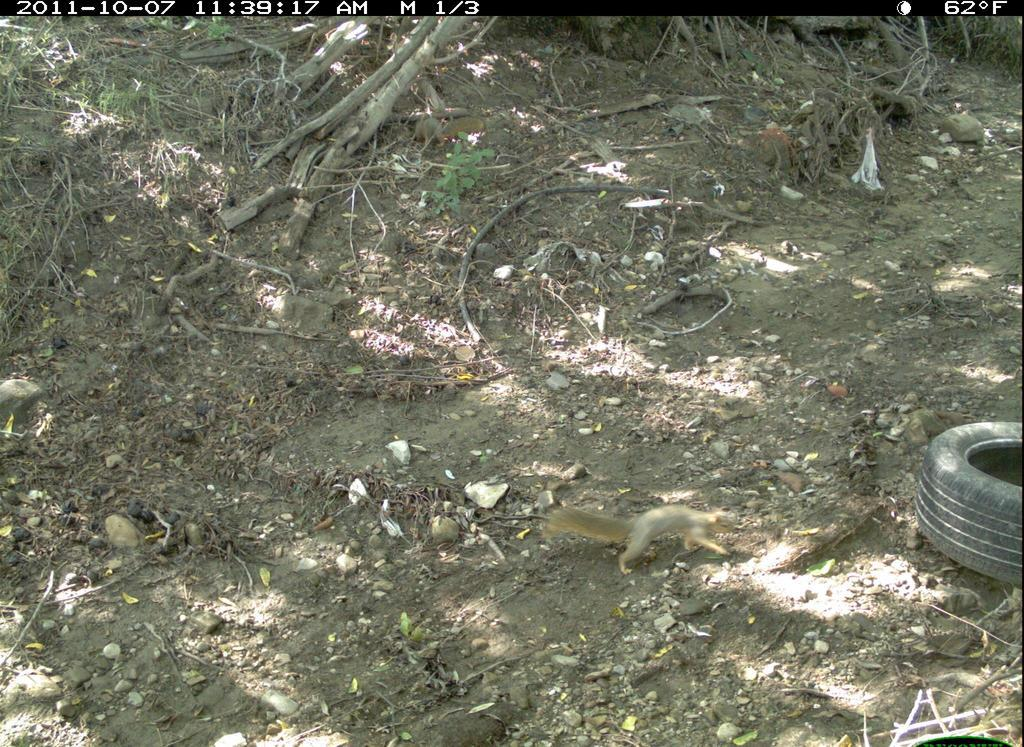squirrel: (539, 495, 751, 582)
